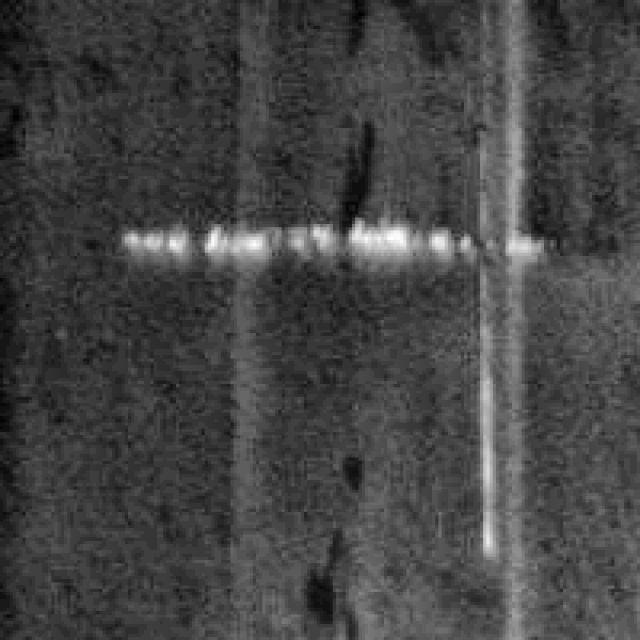Inclusion: (454, 233, 509, 570), (115, 218, 541, 259)
